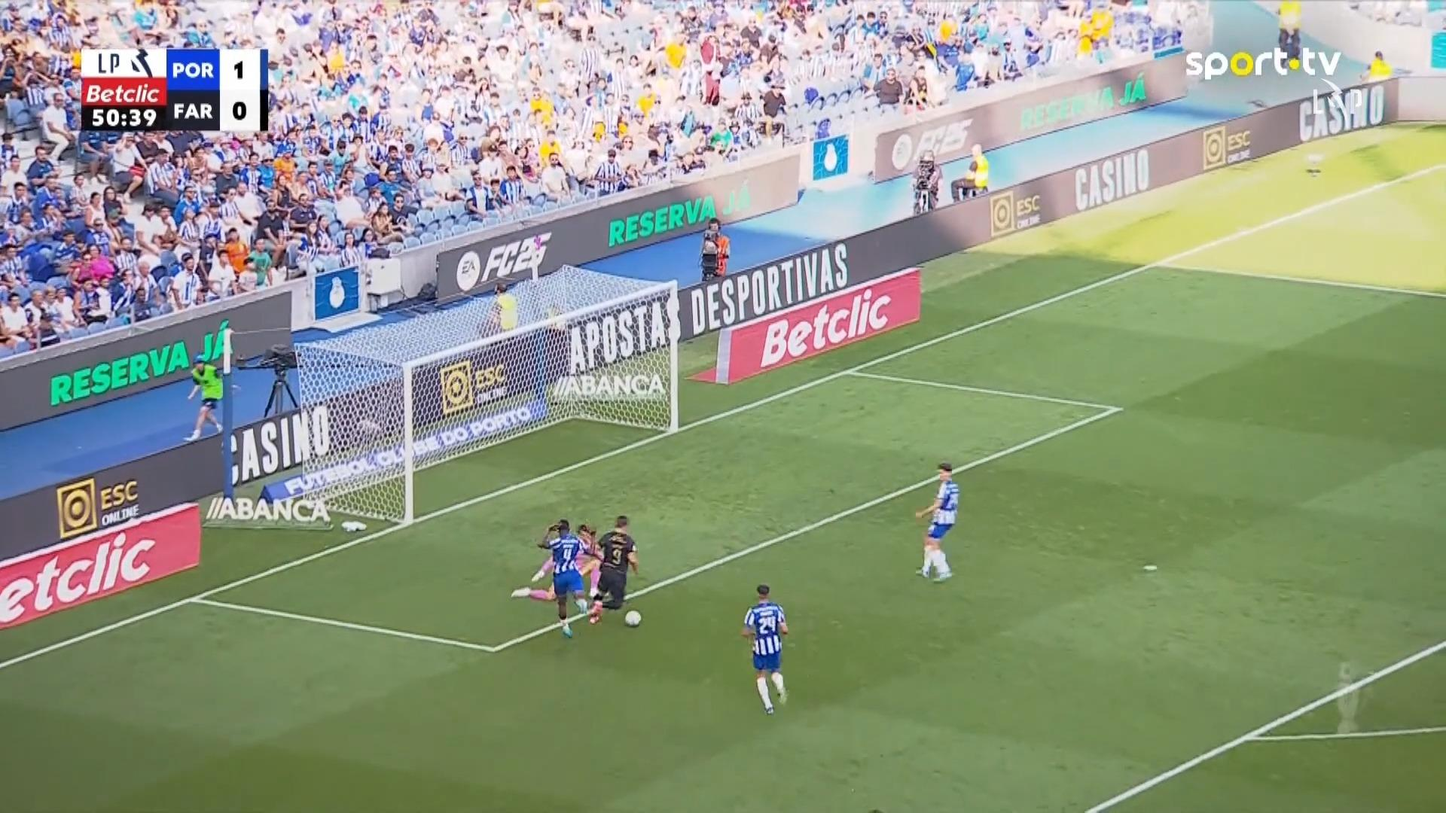ball: (624, 610, 641, 627)
goalkeeper: (507, 525, 603, 617)
player: (531, 518, 599, 638), (740, 583, 789, 714), (586, 513, 639, 624), (913, 461, 959, 583)
